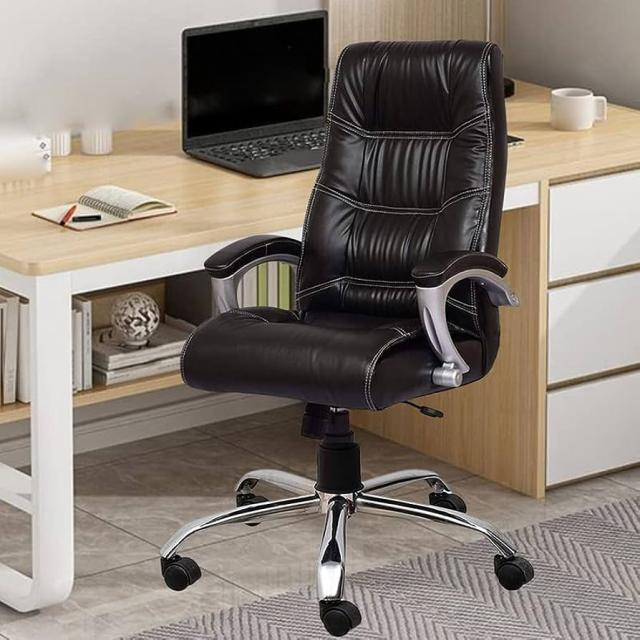chair: (119, 34, 574, 640)
